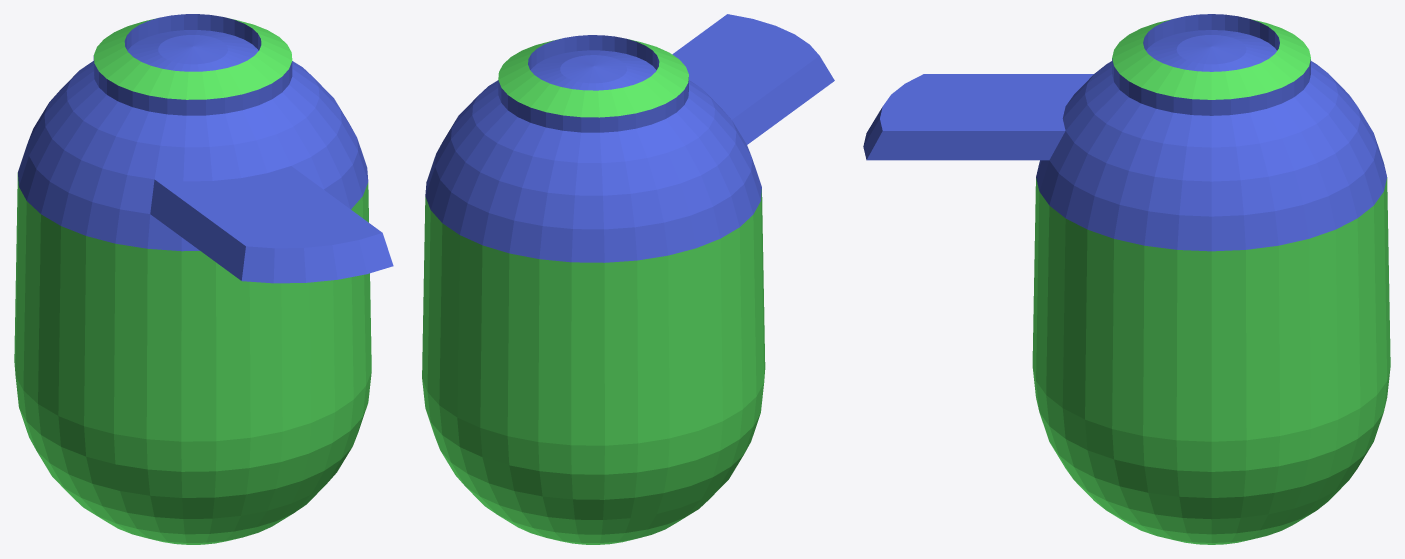
Rendered from Jocator.dae.
3 views of the same model, side by side, from view 1: azimuth 30°, elevation 25°; view 2: azimuth 150°, elevation 25°; view 3: azimuth 270°, elevation 25° (orthographic). The views are drawn at different scales.
Visible parts, largest first — view 1: Sphere.001; view 2: Sphere.001; view 3: Sphere.001.
Part boxes in pixels (left/top/right/bottom): Sphere.001: left=14, top=14, right=393, bottom=544; Sphere.001: left=422, top=14, right=834, bottom=544; Sphere.001: left=863, top=14, right=1390, bottom=544.
Bounding box in the file's own units: 2 × 2.95 × 2.99.
